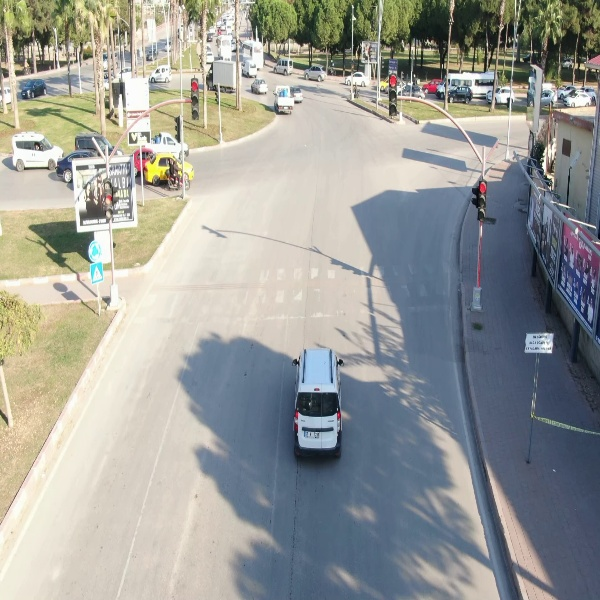car: (290, 346, 345, 459), (8, 132, 65, 174), (445, 84, 476, 107), (562, 88, 594, 109), (22, 77, 49, 100), (485, 85, 514, 106), (148, 64, 174, 85), (303, 64, 329, 83), (272, 58, 296, 78), (345, 70, 370, 89), (251, 78, 269, 94)
